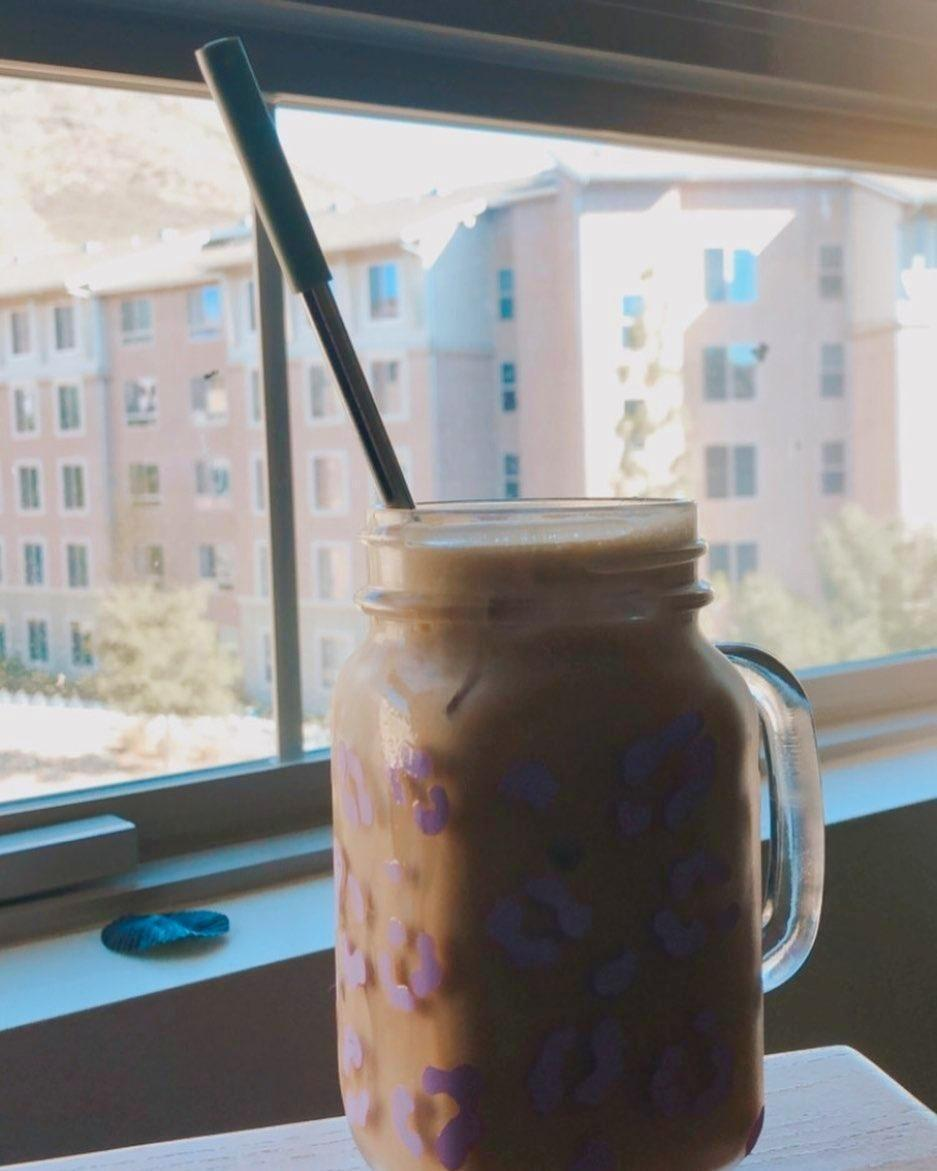glass-mug: (304, 492, 848, 1171)
